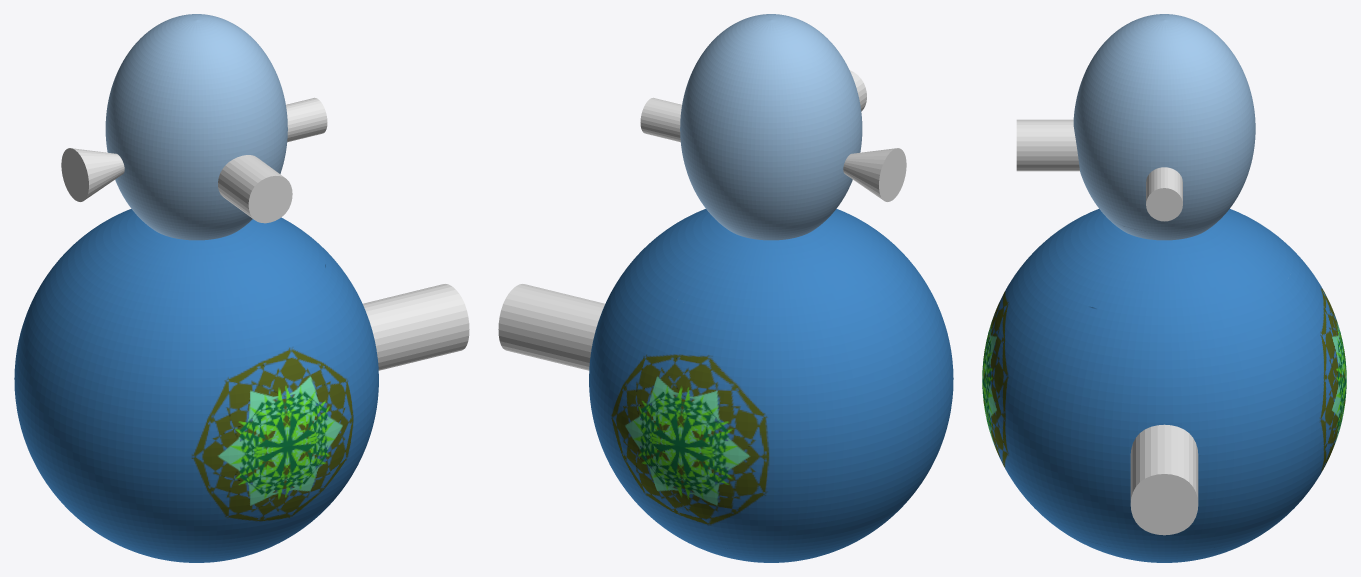
Rendered from BOD0_BMC8_BCC8_BPT4_FRC10_HEA2_HMC1_HCC15_HPT0_ELT3_ERT1_ELL1_ERL2_AP2_AAL0_AAR0_BEK1.fbx.
3 renders of one model, left to right at view 1: azimuth 30°, elevation 25°; view 2: azimuth 150°, elevation 25°; view 3: azimuth 270°, elevation 25°, orthographic.
Visible parts, largest first — view 1: Body, Arm, Beak, Ear, Ear.001; view 2: Body, Arm, Ear, Ear.001; view 3: Body, Arm, Beak, Ear.001.
Boxes of the visible parts, x1,y1,x2,y2 form: Body: (14, 14, 378, 562); Arm: (363, 284, 469, 370); Beak: (218, 155, 292, 223); Ear: (61, 148, 124, 201); Ear.001: (286, 97, 327, 142); Body: (589, 14, 953, 562); Arm: (498, 284, 604, 370); Ear: (843, 148, 906, 201); Ear.001: (640, 97, 681, 142); Body: (982, 14, 1346, 562); Arm: (1130, 424, 1198, 535); Beak: (1016, 119, 1079, 171); Ear.001: (1146, 167, 1182, 221).
Size of the model in its own units: 64.68 by 78.65 by 49.36.
Materials: 1 (1 with a texture image).
